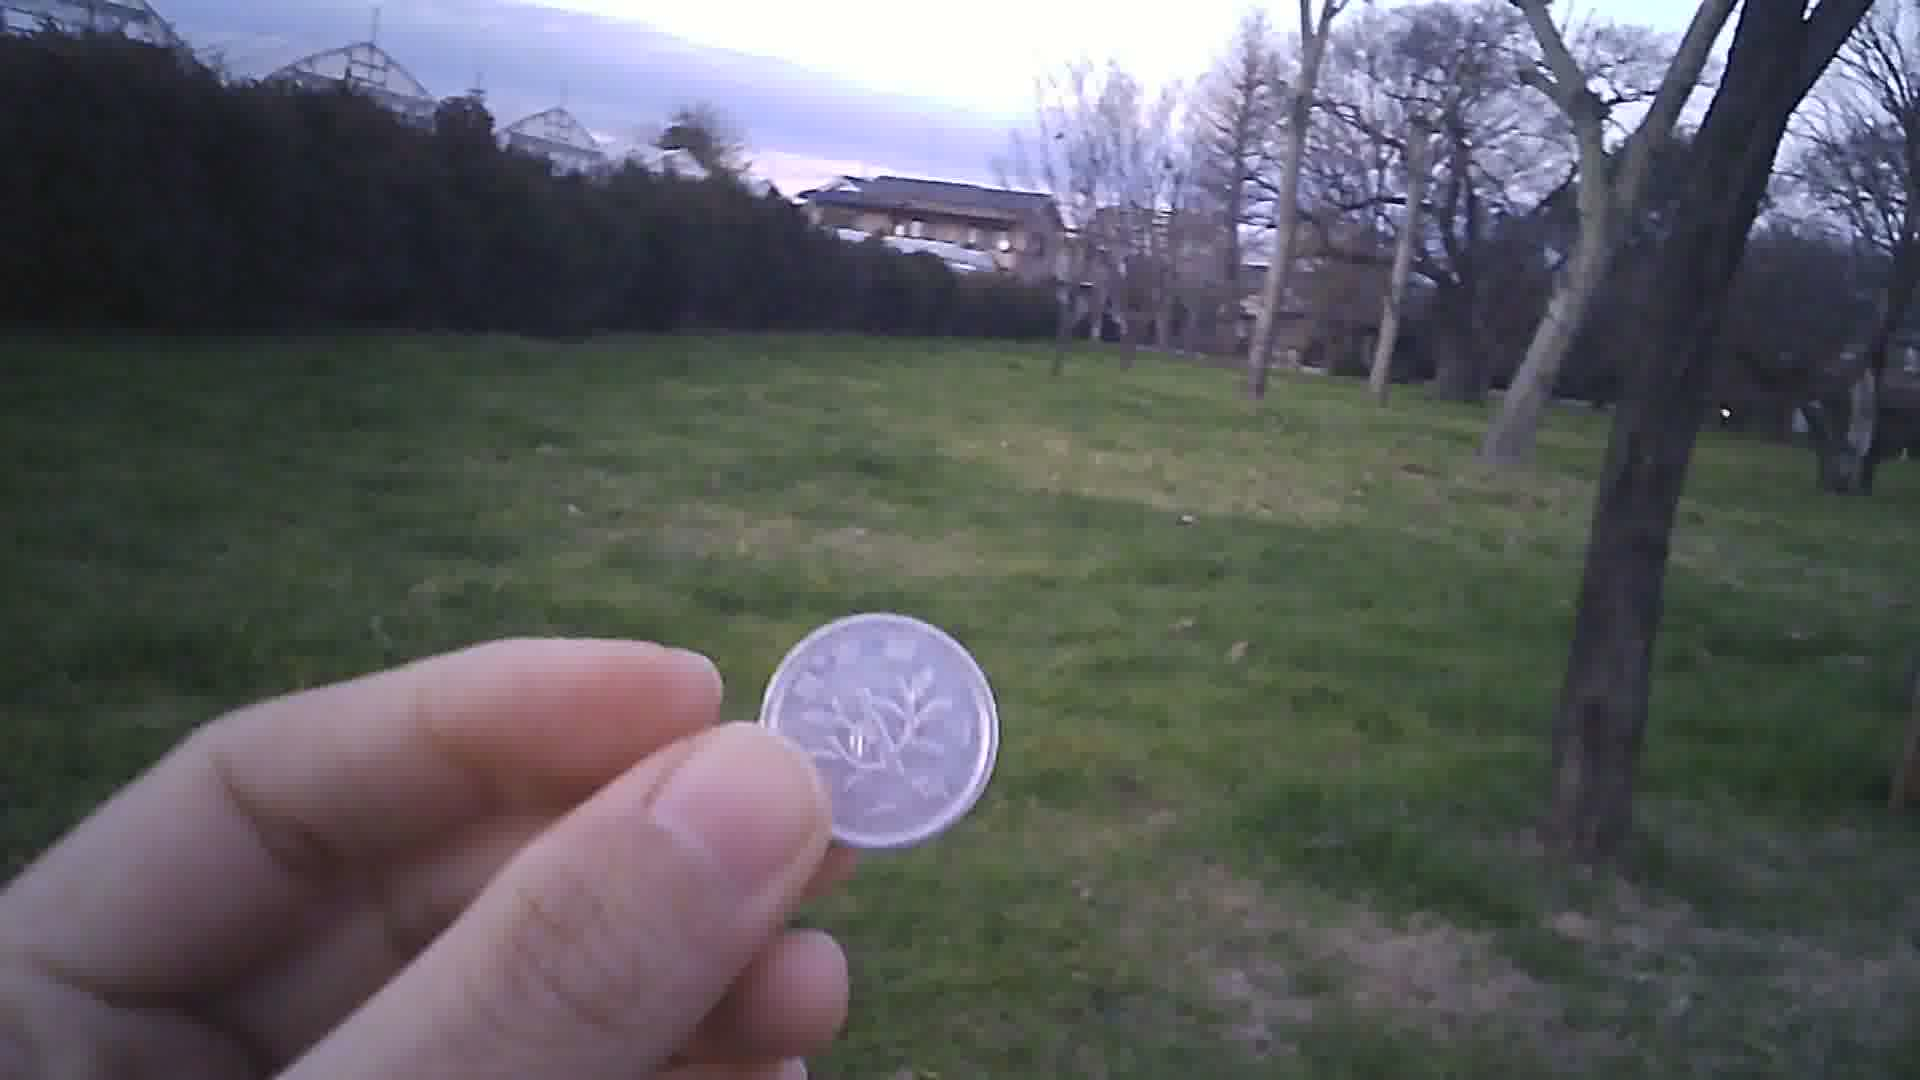1 Yen: (738, 599, 1007, 847)
